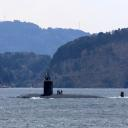submarine: (20, 67, 125, 99)
